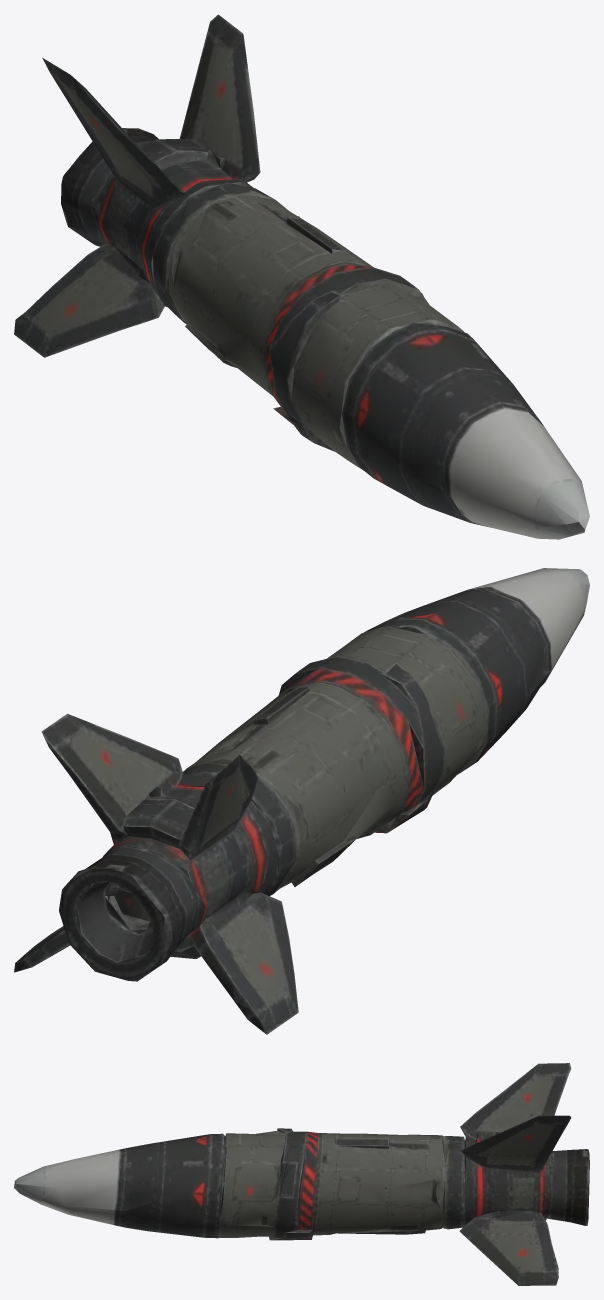
File: rocket-r2.glb
3 views of the same model, one above another, from view 1: azimuth 30°, elevation 25°; view 2: azimuth 150°, elevation 25°; view 3: azimuth 270°, elevation 25° (orthographic). The views are drawn at different scales.
Parts seen in each view (by area): view 1: rocket-r2; view 2: rocket-r2; view 3: rocket-r2.
Part boxes in pixels (<box>): rocket-r2: <box>14,14,589,539</box>; rocket-r2: <box>14,568,589,1034</box>; rocket-r2: <box>14,1063,589,1285</box>.
Bounding box in the file's own units: 2.19 × 2.13 × 7.
1 material, 1 textured.
